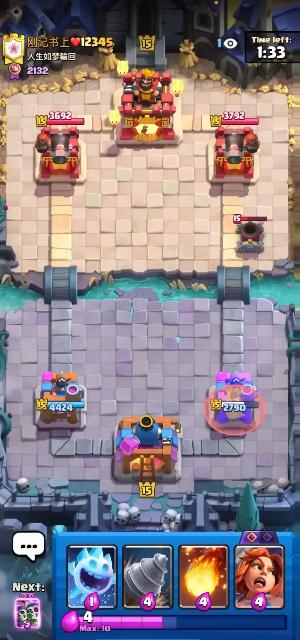enemy_building: (233, 214, 268, 253)
